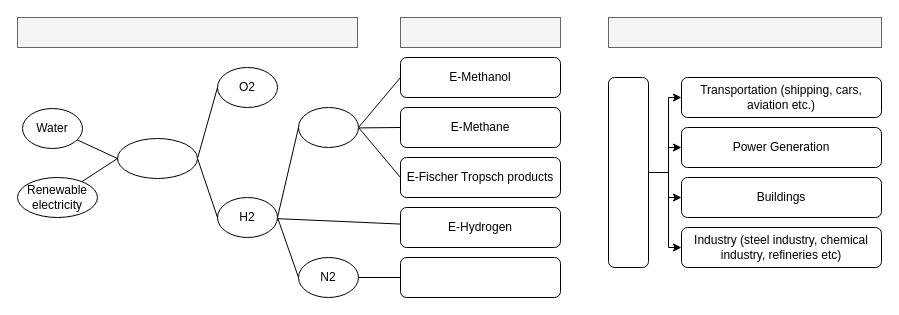
The diagram is 899 pixels wide and 315 high, and some of its shapes have lost their labels. Each missing label, with the centre of its shape:
"Applications" goes at pixel 745 32.
"CO2" goes at pixel 328 127.
"Derivatives" goes at pixel 628 172.
"E-Ammonia" goes at pixel 480 277.
"E-fuels" goes at pixel 480 32.
"Ele ctrolyzer" goes at pixel 157 158.
"Power-to-Gas" goes at pixel 187 32.
